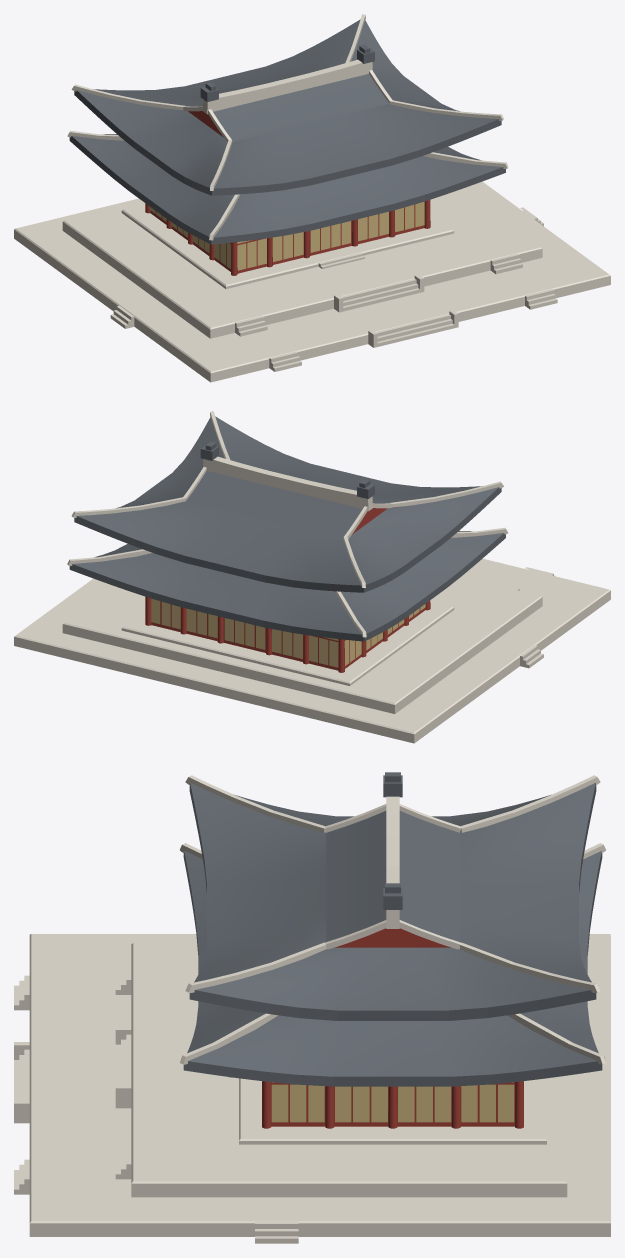
Rendered from seoul-injeongjeon.glb.
3 views of the same model, one above another, from view 1: azimuth 30°, elevation 25°; view 2: azimuth 150°, elevation 25°; view 3: azimuth 270°, elevation 25° (orthographic). The views are drawn at different scales.
Parts seen in each view (by area): view 1: Injeongjeon; view 2: Injeongjeon; view 3: Injeongjeon.
Part boxes in pixels (x1,y1,x2,y2): Injeongjeon: [14, 14, 610, 382]; Injeongjeon: [14, 411, 610, 743]; Injeongjeon: [14, 772, 610, 1243].
Size of the model in its own units: 49.16 by 19.95 by 41.08.
